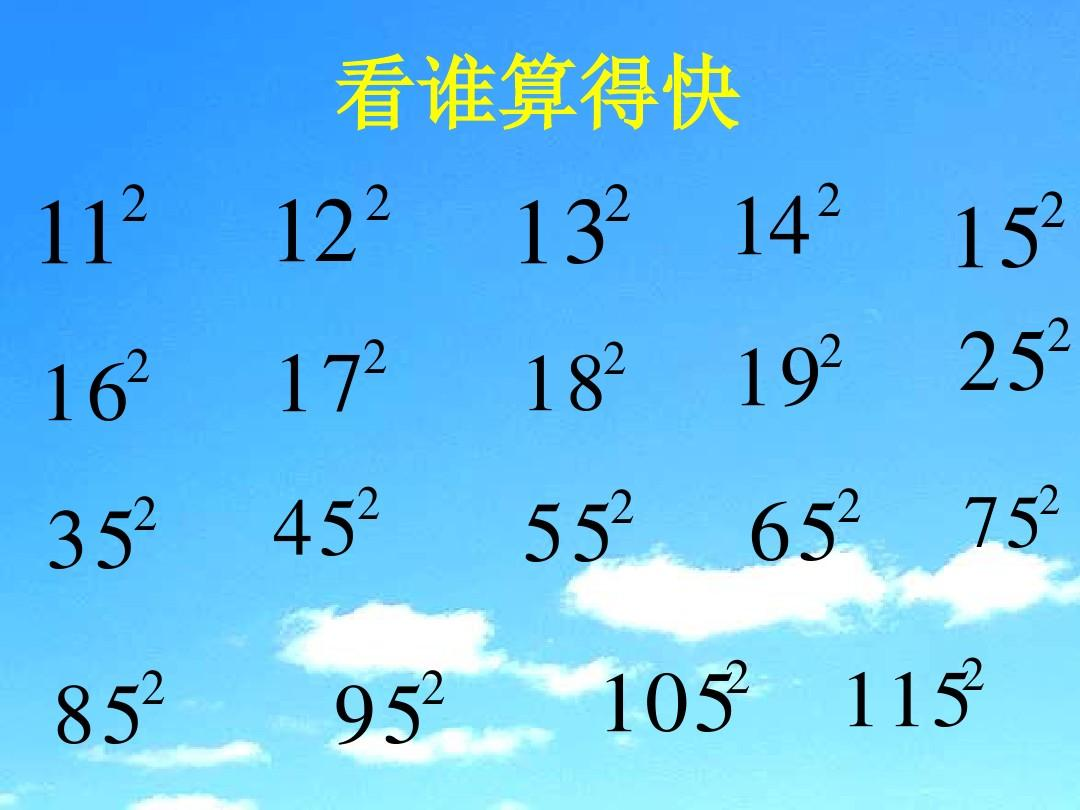square: (601, 176, 635, 226), (604, 484, 640, 529), (363, 179, 395, 226), (134, 664, 167, 705), (727, 656, 757, 701), (414, 665, 446, 705), (1046, 314, 1077, 353), (130, 489, 161, 528), (816, 179, 844, 221), (122, 181, 150, 222), (1038, 190, 1066, 230), (961, 655, 985, 696), (362, 331, 382, 379), (126, 346, 151, 384), (834, 484, 861, 519), (351, 486, 377, 521), (1036, 482, 1058, 521), (602, 338, 625, 375), (819, 332, 841, 368)
